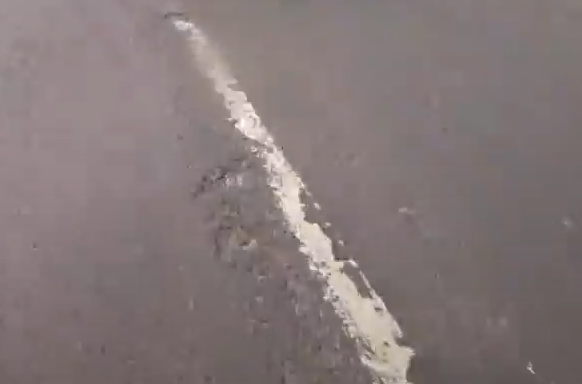Berlubang: (185, 147, 252, 239), (217, 222, 273, 293), (236, 314, 284, 340), (159, 3, 206, 29)
